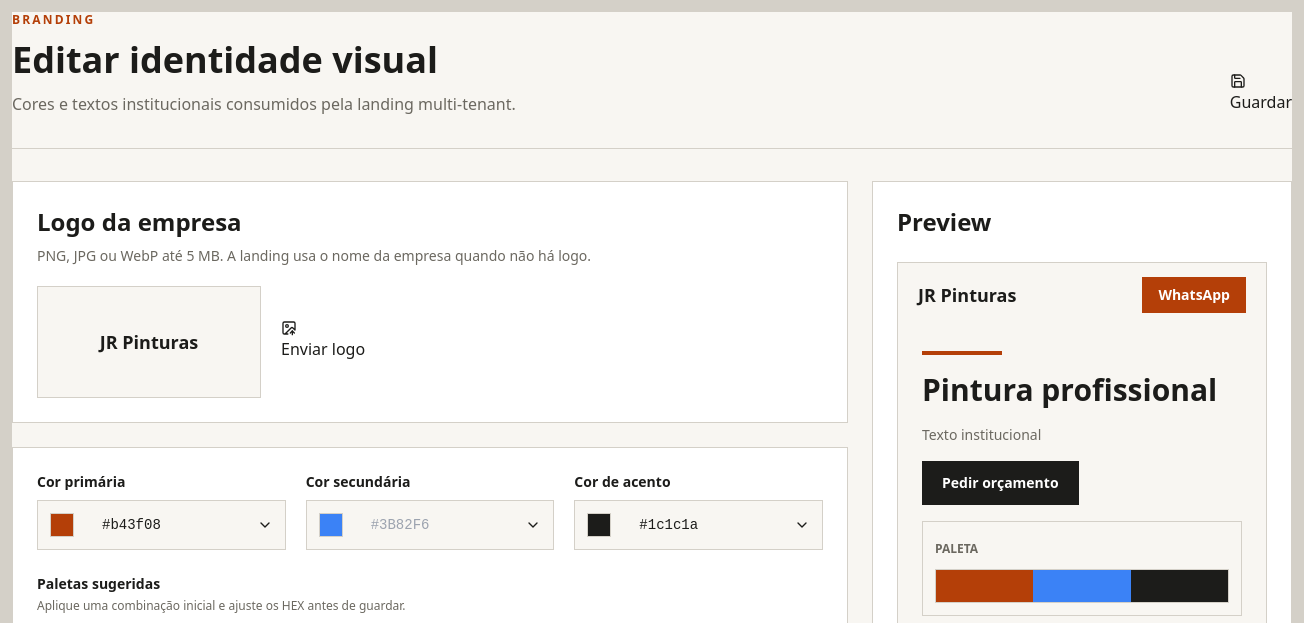
Test: BrandingPage color picker › shows validation for invalid HEX without breaking the preview
Expected: the heading "Editar identidade visual" is shown, [12, 35, 438, 84]
Replace the text in the field labelled "Cor primária" with "#XYZ": (165, 525) [86, 501, 245, 549]
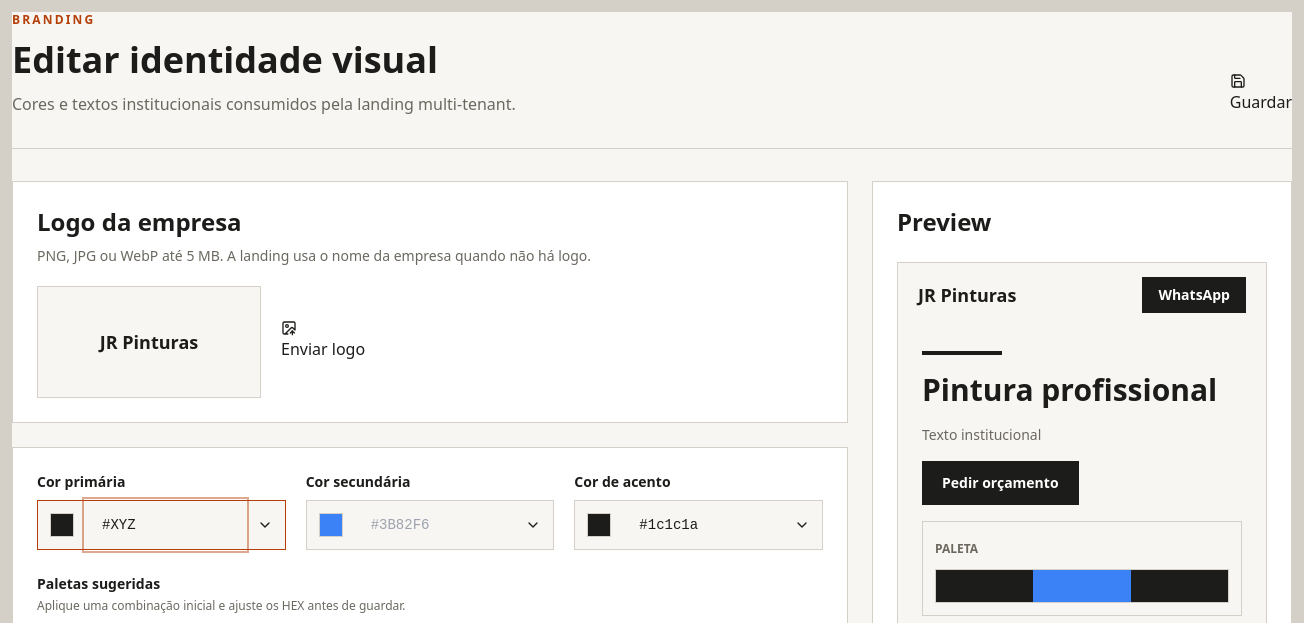
Expected: the text "WhatsApp" has style "backgroundColor: #1C1C1A", [1142, 277, 1246, 313]
Click the button "Guardar": (1261, 94) [1230, 73, 1292, 116]
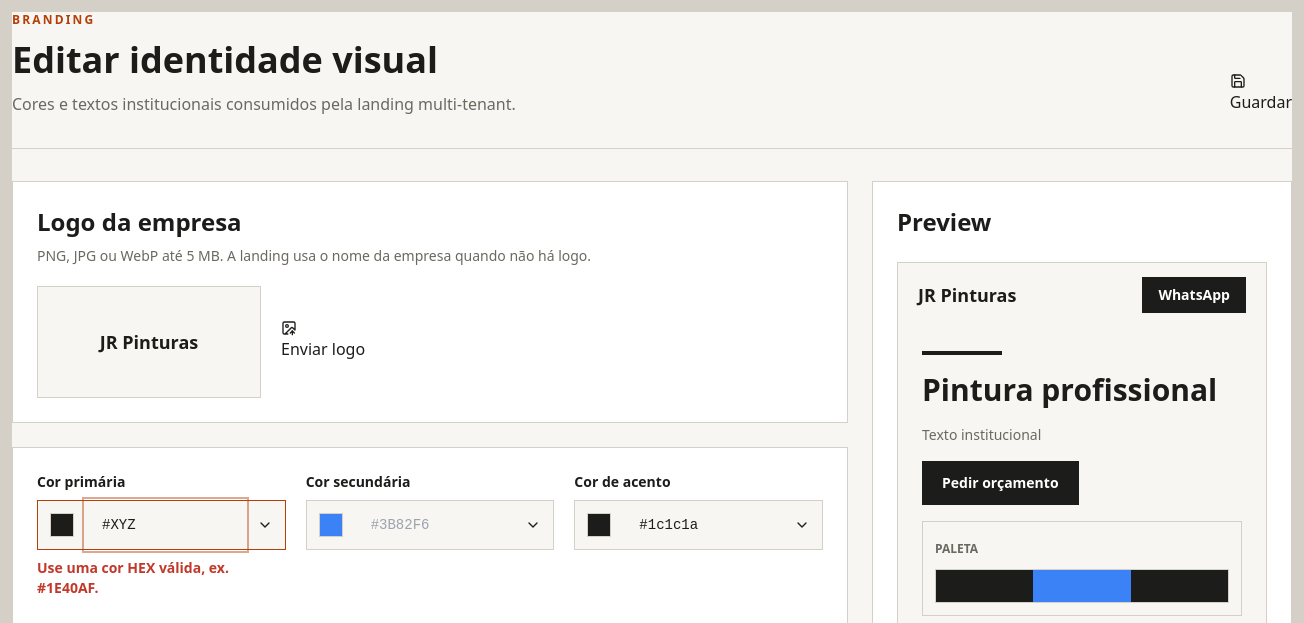
Expected: the text "Use uma cor HEX válida, ex. #1E40AF." is shown, [37, 558, 229, 597]
